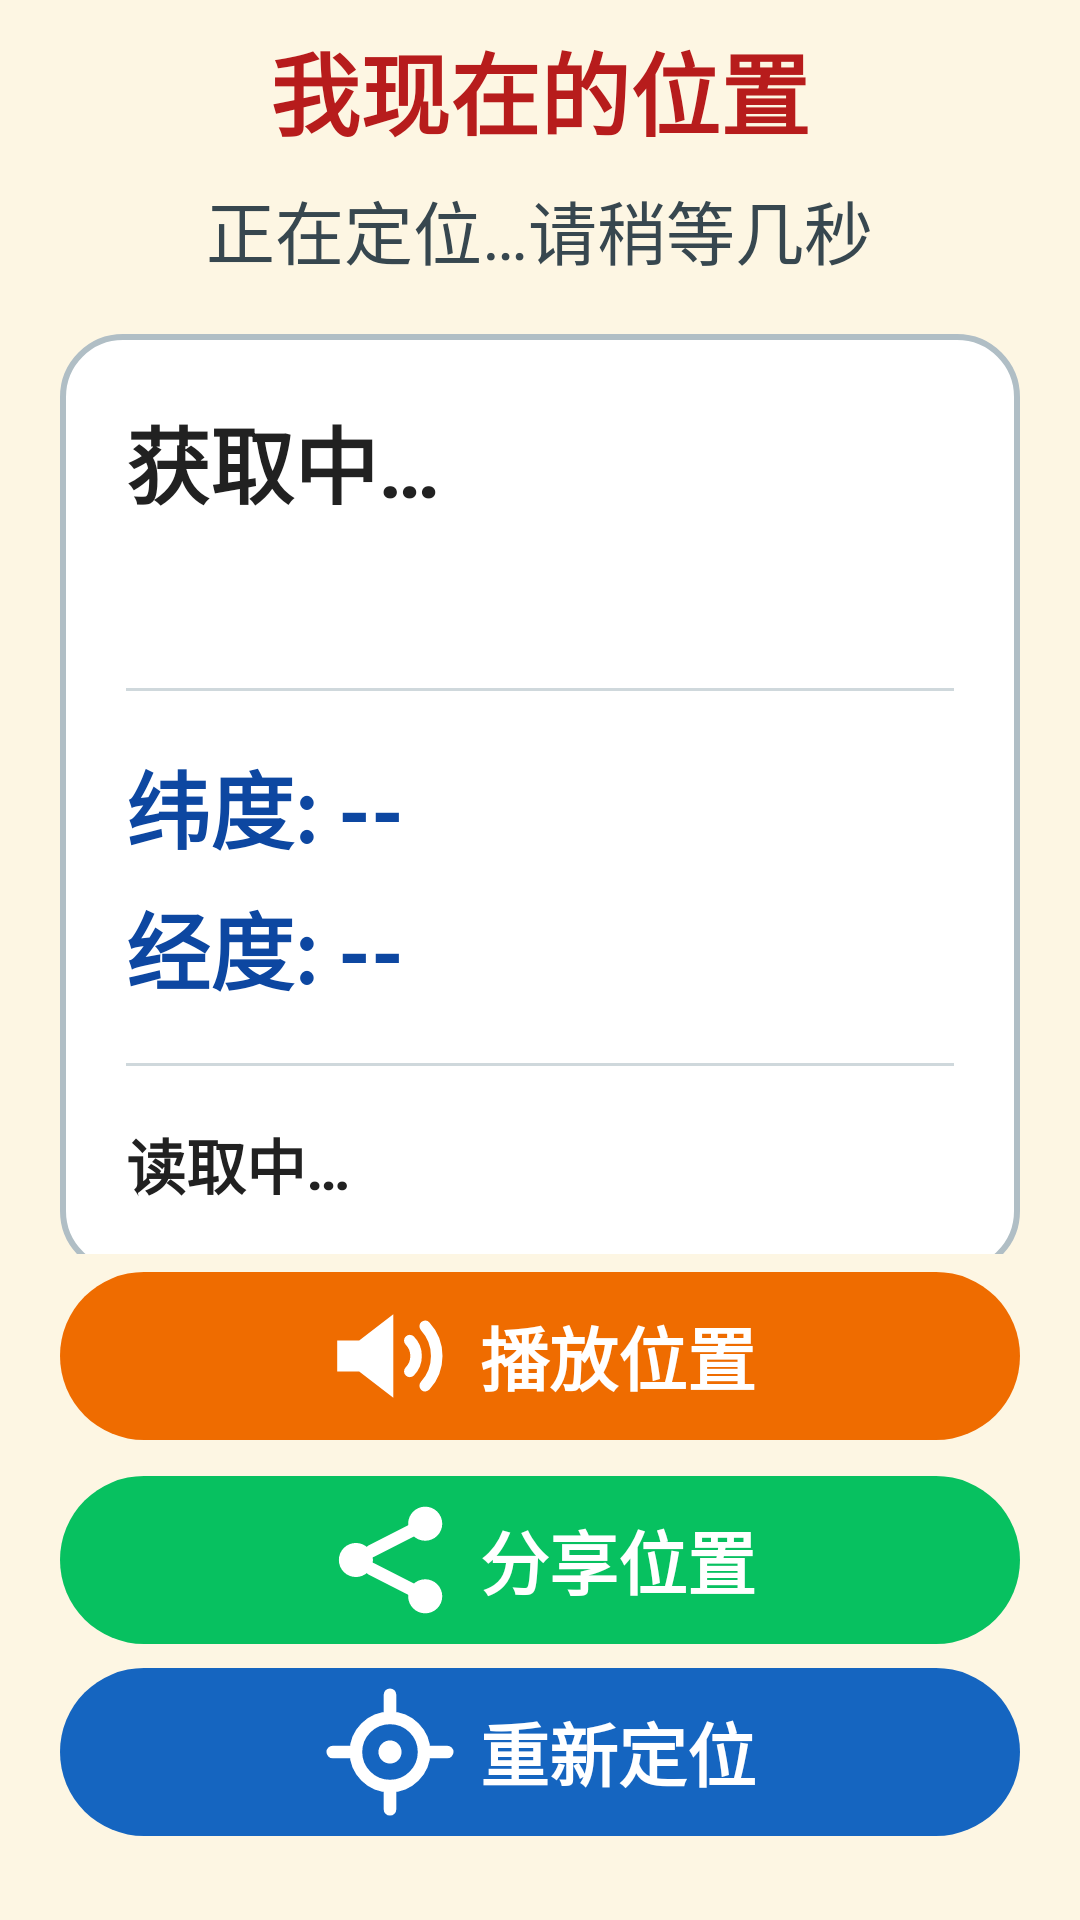

Icon click points for this 1080px x 1920px phone screenshot, format point (x, y):
relocate: point (390, 1752)
share: point (391, 1560)
speaker: point (390, 1356)
